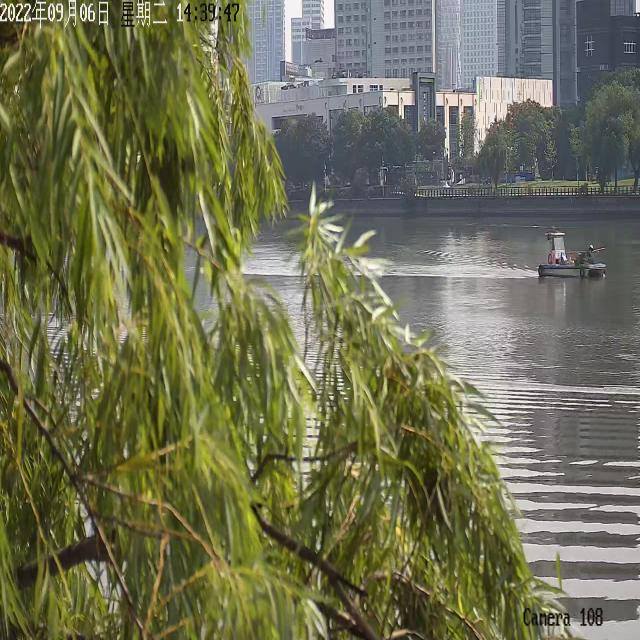ship: (538, 229, 606, 279)
